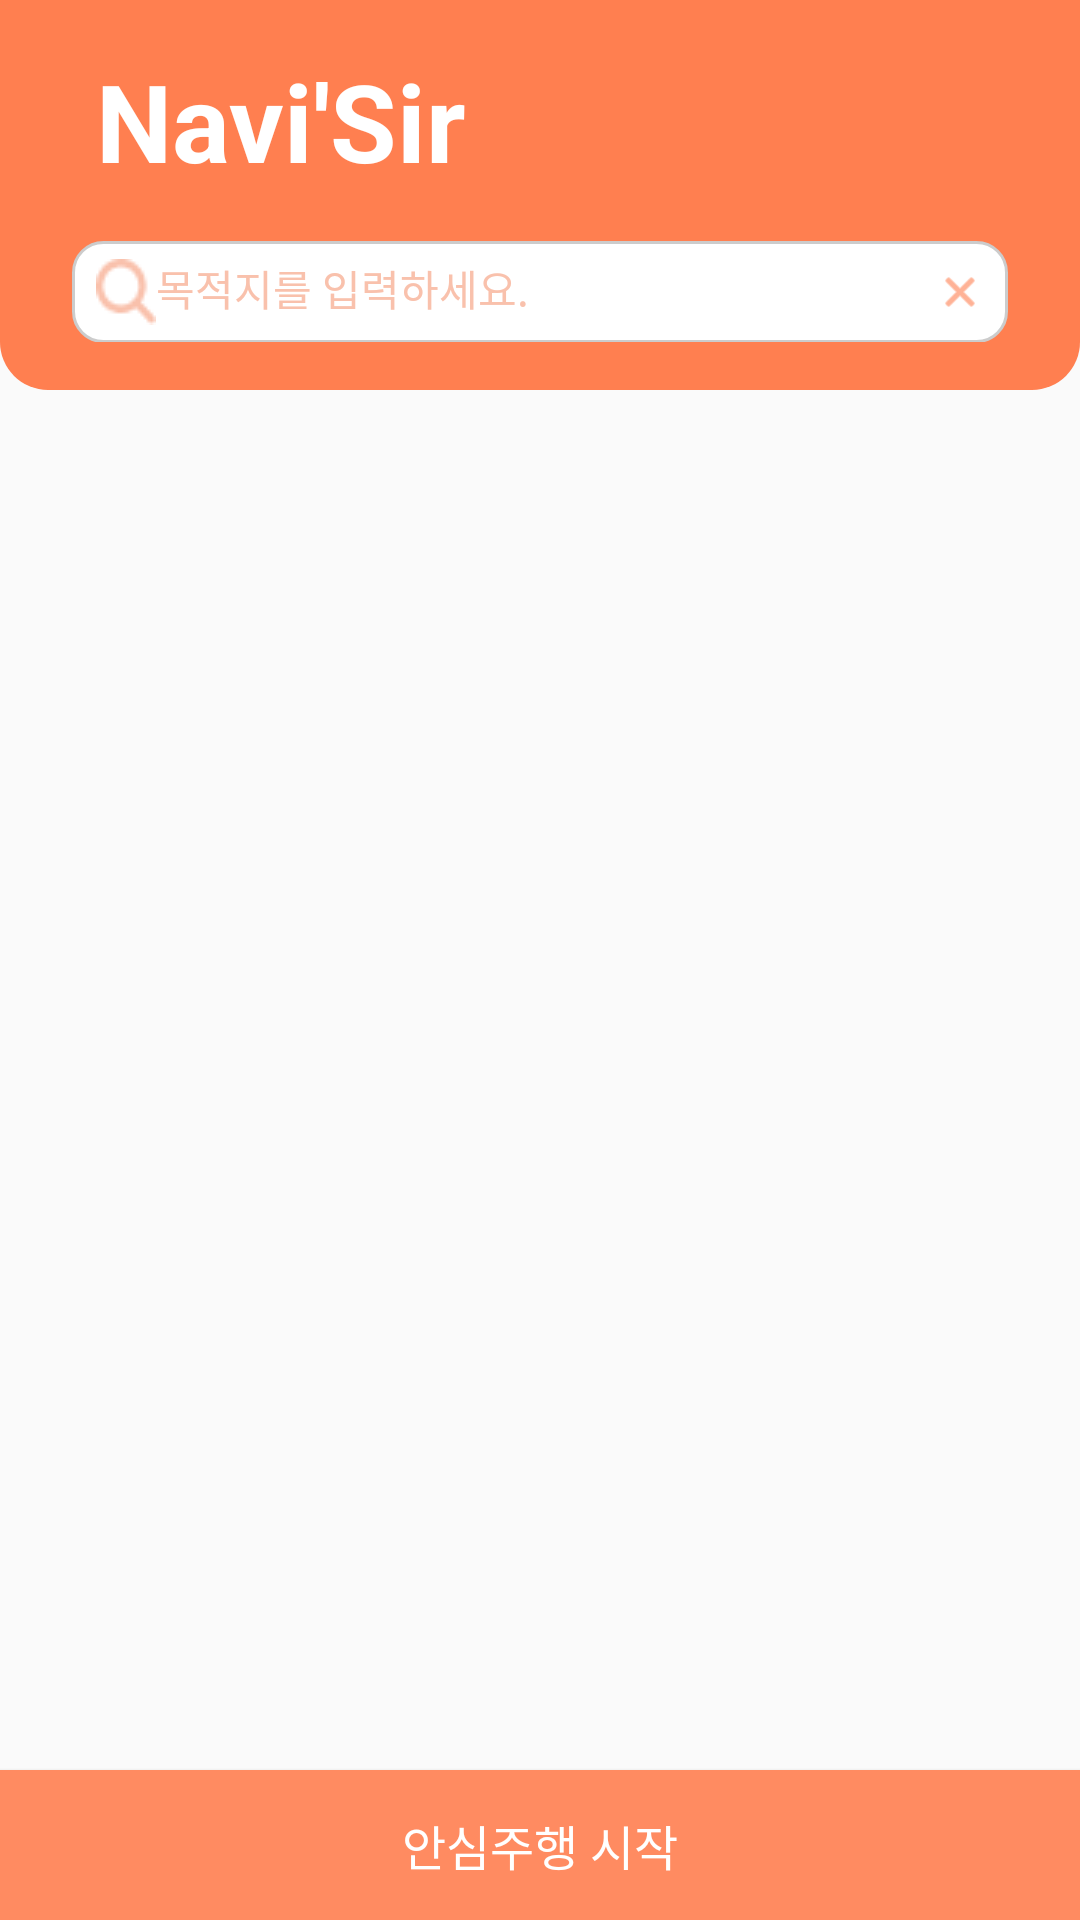

Icon click points for this 1080 x 1920 phone screenshot, format [x,y]:
close clear cancel: [960,292]
